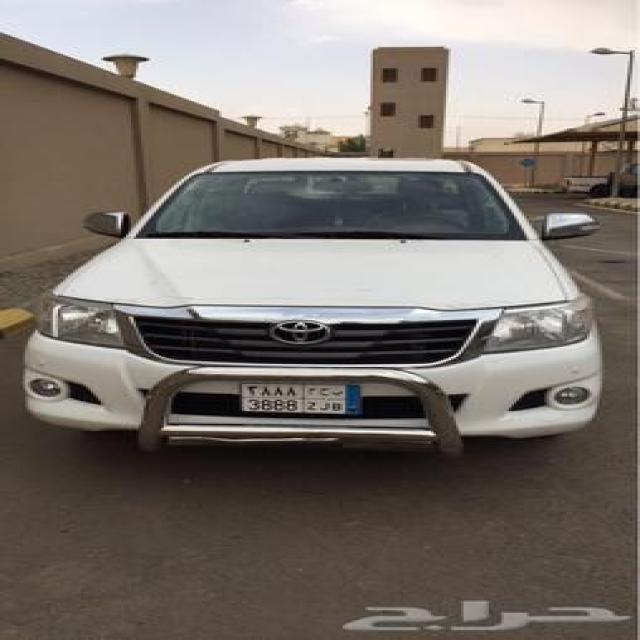license_plate: (237, 381, 363, 417)
